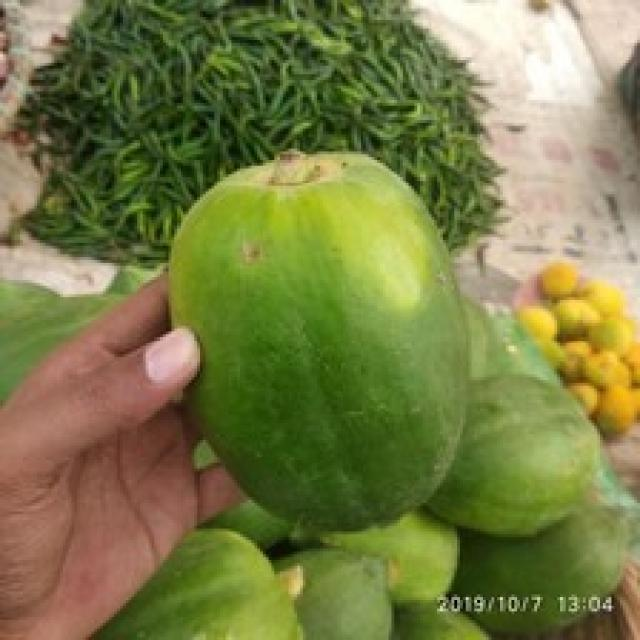Pepaya unrippen: (151, 129, 471, 530)
